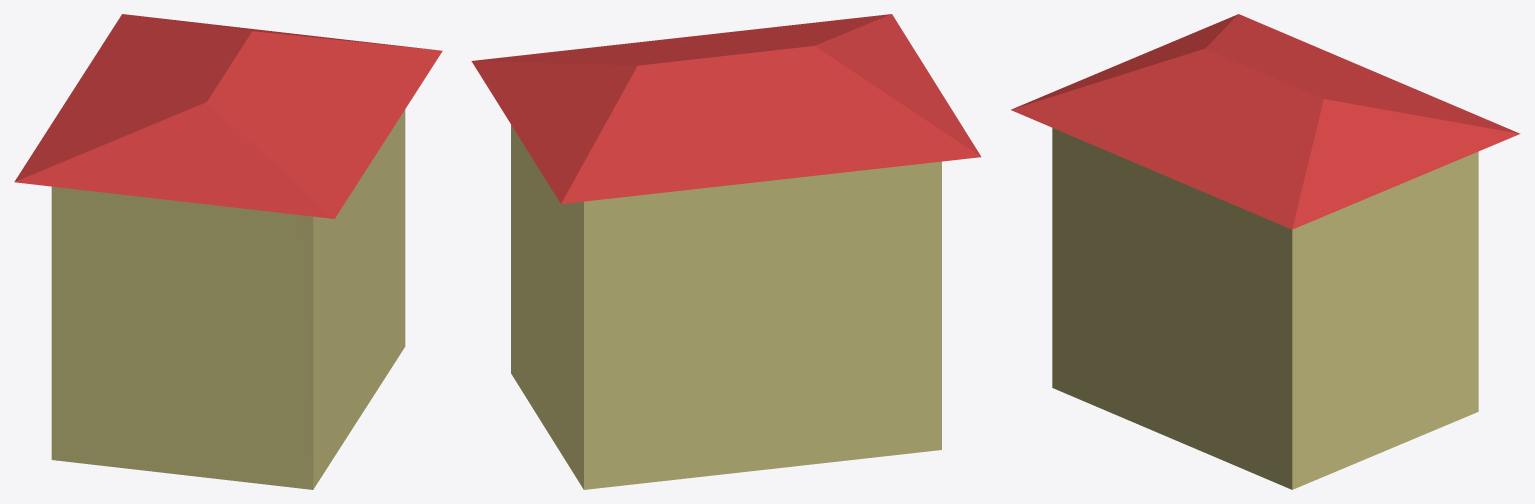
3 renders of one model, left to right at view 1: azimuth 30°, elevation 25°; view 2: azimuth 150°, elevation 25°; view 3: azimuth 270°, elevation 25°, orthographic. The views are drawn at different scales.
Visible parts, largest first — view 1: group_5, group_3, group_4; view 2: group_5, group_3, group_4; view 3: group_5, group_3, group_4.
Part boxes in pixels (x1,y1,x2,y2): group_5: [51, 109, 405, 489]; group_3: [14, 14, 439, 218]; group_4: [14, 14, 442, 218]; group_5: [511, 125, 941, 489]; group_3: [472, 14, 981, 203]; group_4: [471, 14, 980, 203]; group_5: [1052, 128, 1478, 489]; group_3: [1013, 14, 1519, 229]; group_4: [1011, 14, 1519, 229].
Bounding box in the file's own units: 17.19 × 17.18 × 12.13.
